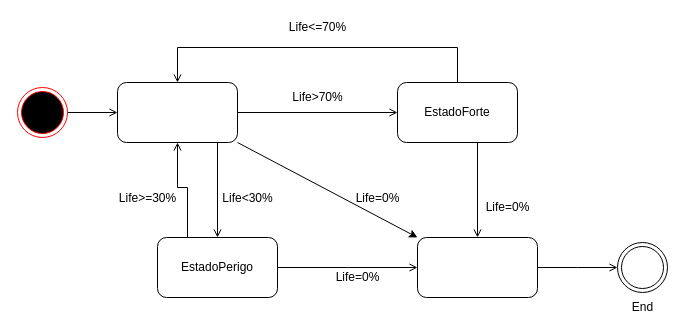
The diagram is 685 pixels wide and 334 high, and some of its shapes have lost their labels. The shapes that lost their labels are listed below. From the top down, each one's centre as x and y in pixels, then its label:
[177,112]: EstadoNormal
[477,267]: EstadoMorto
